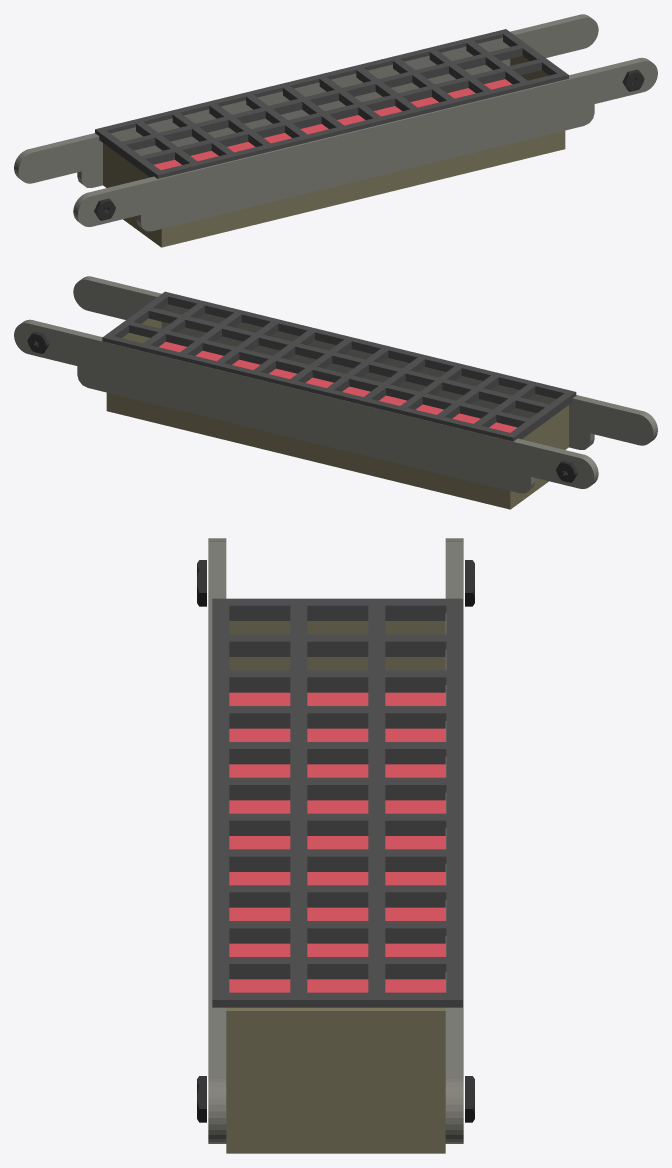
File: Grill.fbx
3 renders of one model, top to bottom at view 1: azimuth 30°, elevation 25°; view 2: azimuth 150°, elevation 25°; view 3: azimuth 270°, elevation 25°, orthographic. The views are drawn at different scales.
Visible parts, largest first — view 1: Saw.006, Cube.020; view 2: Saw.006, Cube.020; view 3: Cube.020, Saw.006.
Part boxes in pixels (x1,y1,x2,y2): Saw.006: (14, 14, 657, 247); Cube.020: (95, 29, 568, 178); Saw.006: (14, 276, 657, 509); Cube.020: (102, 291, 576, 441); Cube.020: (212, 598, 462, 1007); Saw.006: (197, 538, 474, 1153).
Bounding box in the file's own units: 15.8 × 2 × 3.28.
